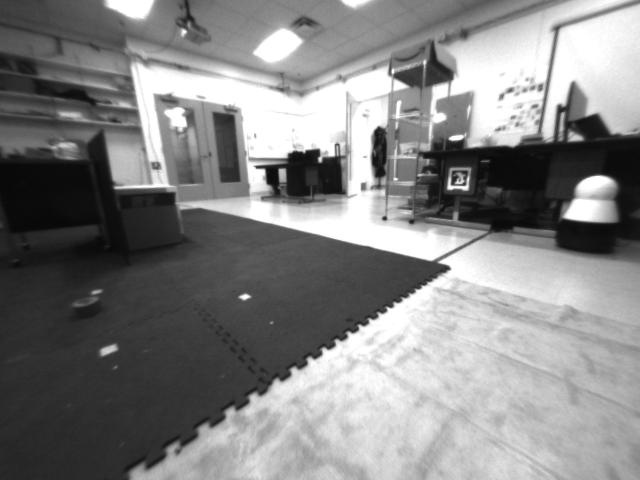dogtoy: (64, 287, 106, 319)
